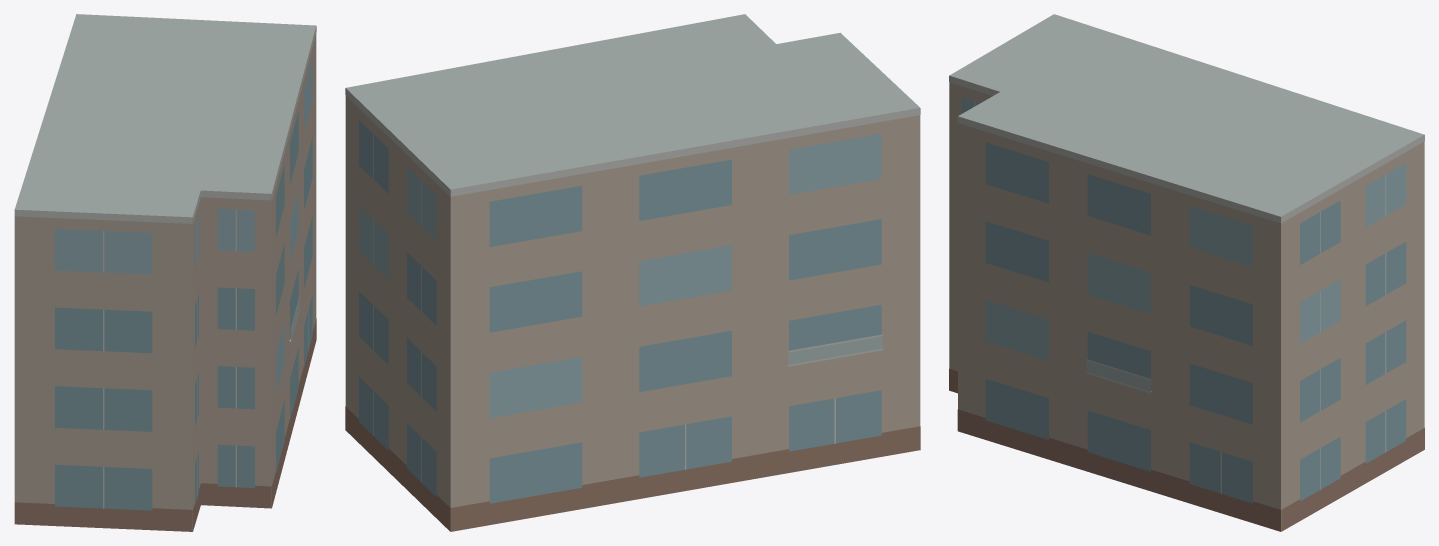
File: survey-upis-32658501.glb
The picture shows the model from 3 angles, left to right: view 1: azimuth 30°, elevation 25°; view 2: azimuth 150°, elevation 25°; view 3: azimuth 270°, elevation 25°; orthographic projection. The views are drawn at different scales.
Visible parts, largest first — view 1: survey-upis-32658501.tmp; view 2: survey-upis-32658501.tmp; view 3: survey-upis-32658501.tmp.
Boxes of the visible parts, box(x1,y1,x2,y2) form: survey-upis-32658501.tmp: box(14, 14, 316, 531); survey-upis-32658501.tmp: box(345, 14, 920, 531); survey-upis-32658501.tmp: box(949, 14, 1424, 531).
Bounding box in the file's own units: 16.03 × 11.6 × 15.88.
